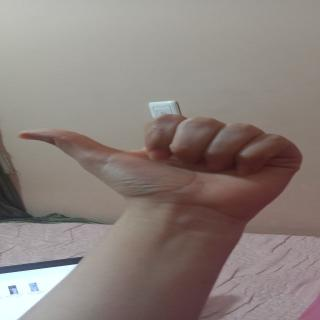DAD: (13, 114, 313, 195)
